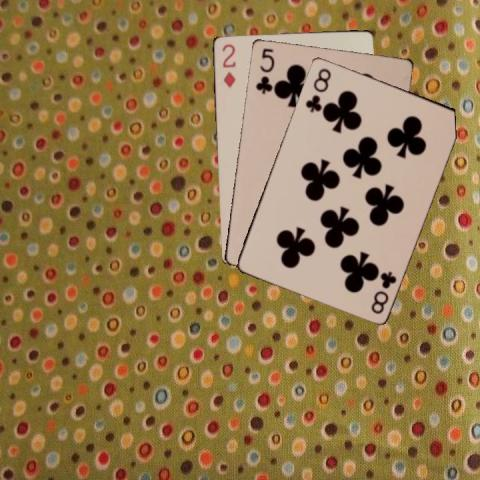2d: (218, 41, 236, 88)
5c: (252, 44, 275, 95)
8c: (302, 65, 333, 113), (367, 268, 398, 315)
